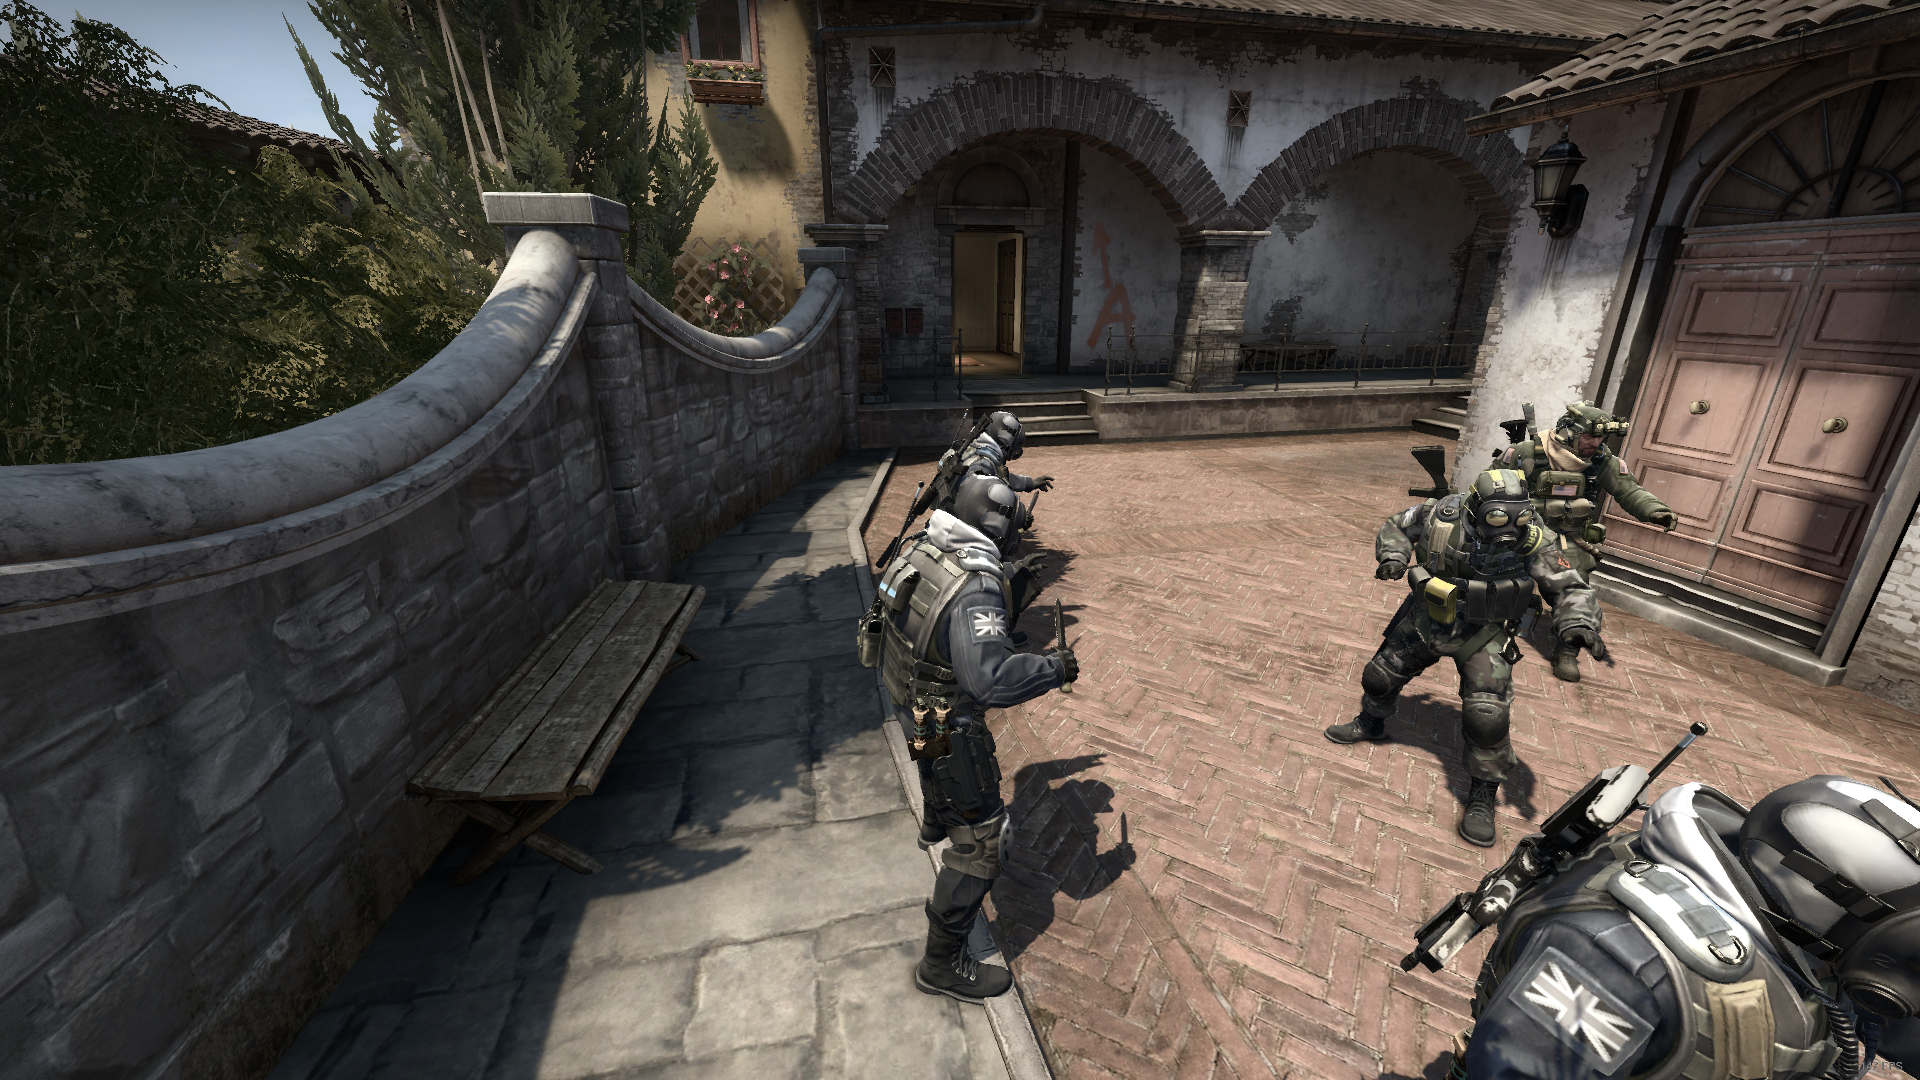ct: (1422, 764, 1920, 1080), (862, 472, 1083, 1015)
